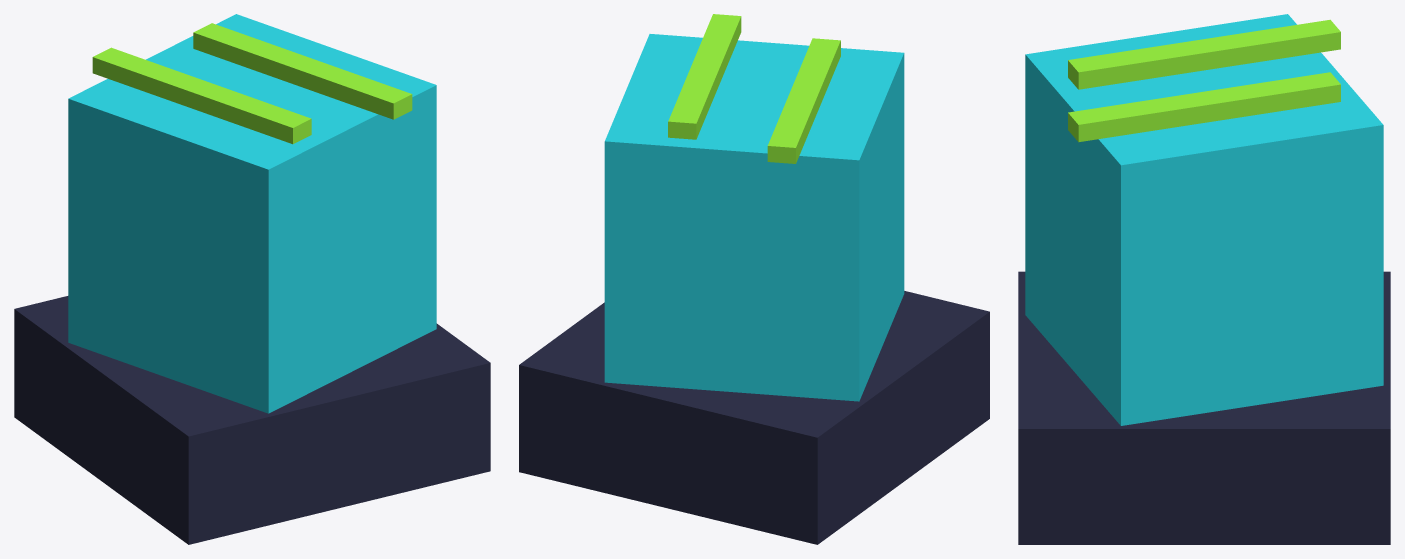
Rendered from env_r8_data_cube.glb.
3 renders of one model, left to right at view 1: azimuth 30°, elevation 25°; view 2: azimuth 150°, elevation 25°; view 3: azimuth 270°, elevation 25°, orthographic. The views are drawn at different scales.
Parts seen in each view (by area): view 1: env_r8_data_cube; view 2: env_r8_data_cube; view 3: env_r8_data_cube.
Boxes of the visible parts, x1,y1,x2,y2 form: env_r8_data_cube: (14, 14, 490, 544); env_r8_data_cube: (519, 14, 989, 544); env_r8_data_cube: (1018, 14, 1390, 544).
Bounding box in the file's own units: 1.2 × 1.4 × 1.2.
1 material, 1 textured.
